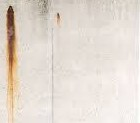Corrosion: (4, 5, 19, 123), (55, 11, 61, 26)
